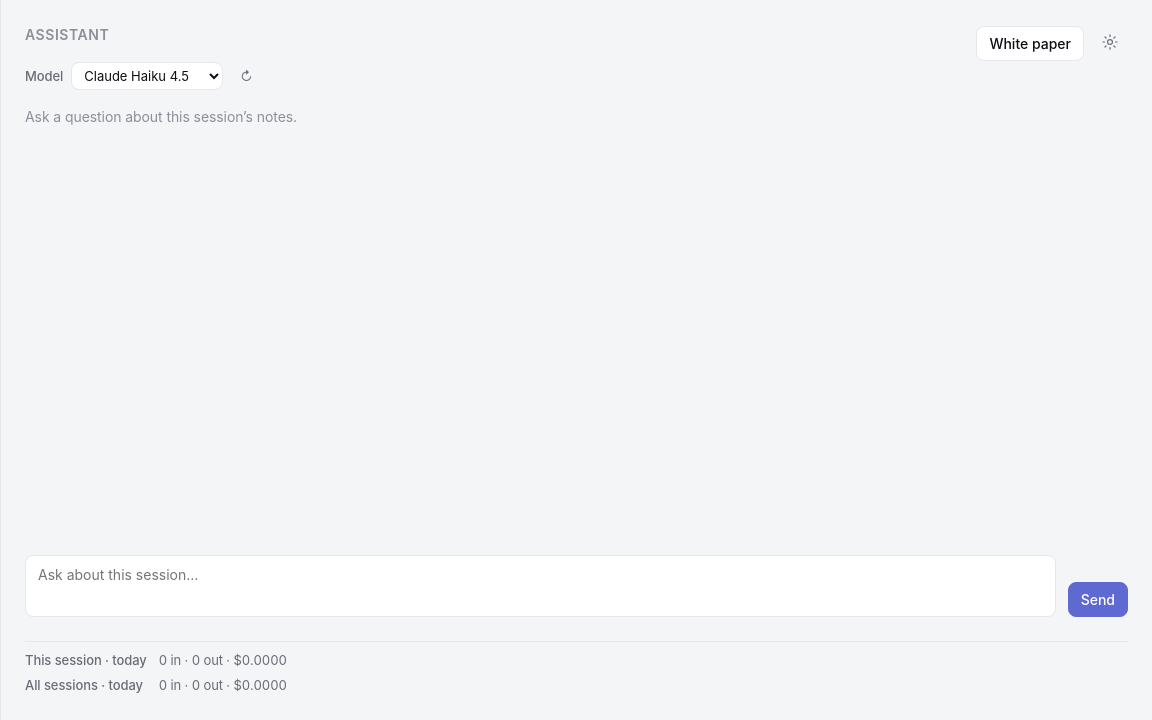
it: LLMPanel — white paper entry point › opens the generated-document modal when White paper is clicked
Click the button "White paper" at [1030, 43], box [976, 26, 1084, 61]
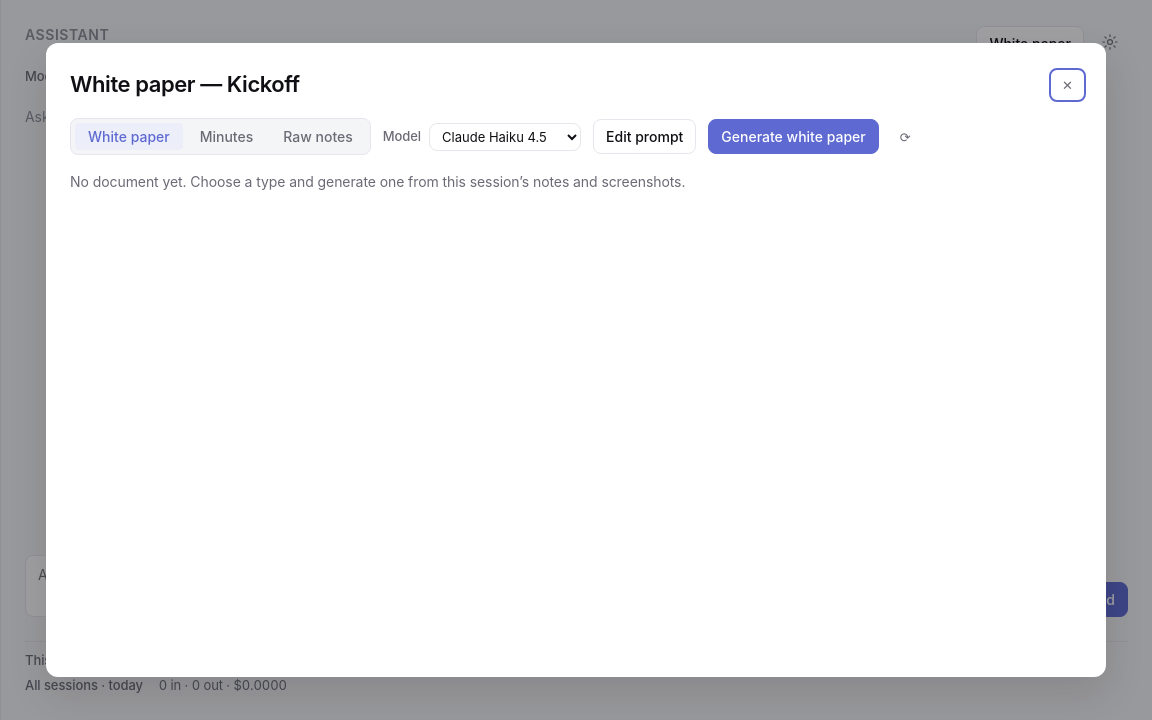
Now the dialog "White paper" is shown
Now the button "Generate white paper" is shown, box [708, 119, 879, 154]
